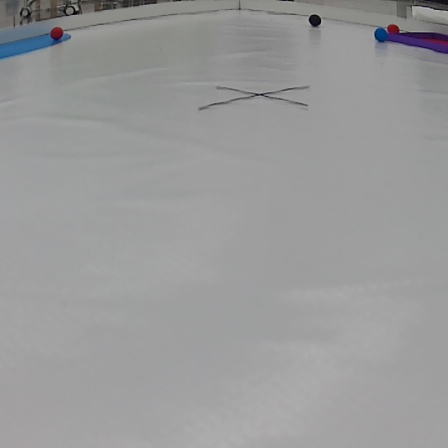black: (310, 14, 321, 27)
blue: (372, 27, 385, 42)
blue_base: (2, 30, 76, 62)
red: (50, 26, 63, 40), (386, 21, 399, 34)
red_aim: (385, 30, 448, 52)
